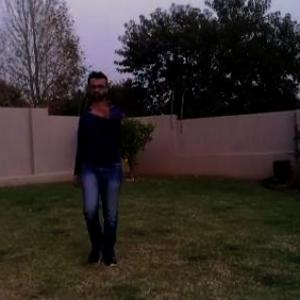follow_hand: (92, 93, 114, 120)
